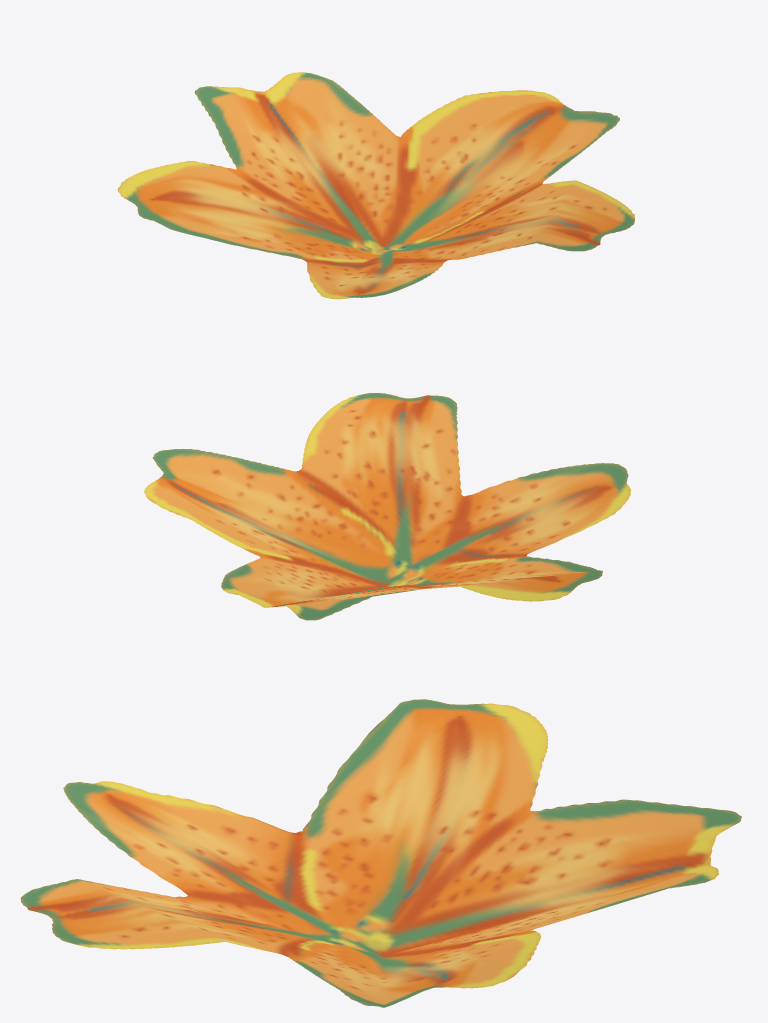
File: FlowerSingleBig.fbx
The picture shows the model from 3 angles, top to bottom: view 1: azimuth 30°, elevation 25°; view 2: azimuth 150°, elevation 25°; view 3: azimuth 270°, elevation 25°; orthographic projection. The views are drawn at different scales.
Visible parts, largest first — view 1: BigFlowerSingle; view 2: BigFlowerSingle; view 3: BigFlowerSingle.
Boxes of the visible parts, x1,y1,x2,y2 form: BigFlowerSingle: (117,72,634,299); BigFlowerSingle: (144,393,630,620); BigFlowerSingle: (20,699,741,1007).
Bounding box in the file's own units: 1 × 0.1537 × 1.
